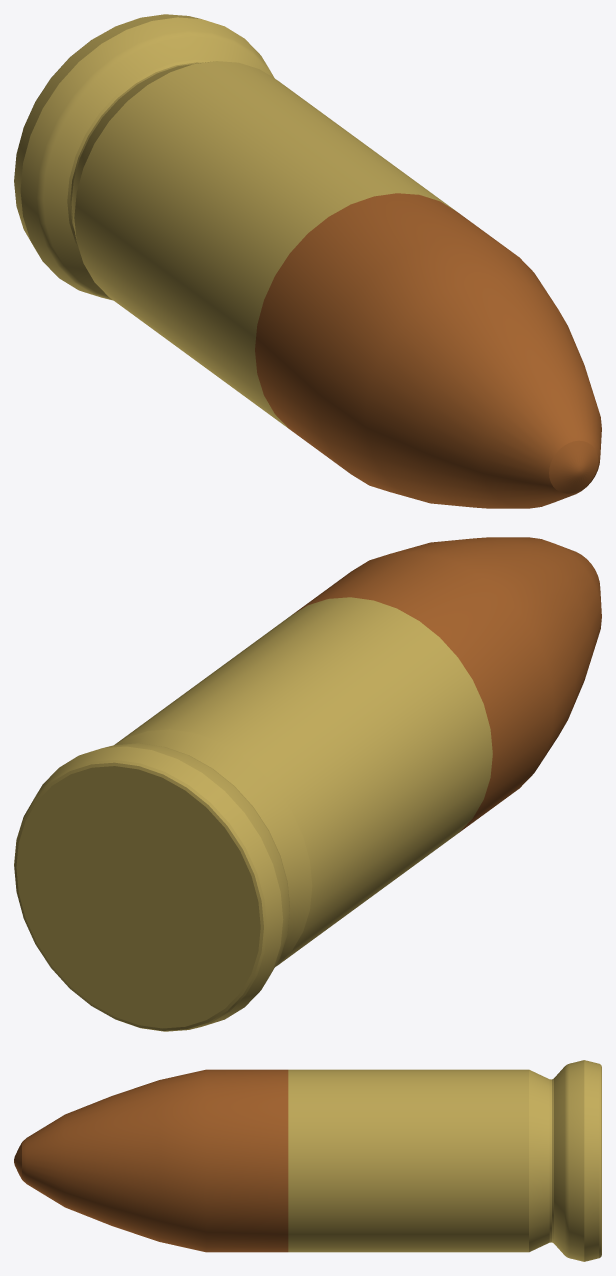
File: M_PistolAmmo.fbx
The picture shows the model from 3 angles, top to bottom: view 1: azimuth 30°, elevation 25°; view 2: azimuth 150°, elevation 25°; view 3: azimuth 270°, elevation 25°; orthographic projection. The views are drawn at different scales.
Parts seen in each view (by area): view 1: pistolammo; view 2: pistolammo; view 3: pistolammo.
Part boxes in pixels (x1,y1,x2,y2): pistolammo: (14, 14, 601, 508); pistolammo: (14, 537, 601, 1031); pistolammo: (14, 1060, 601, 1261).
Bounding box in the file's own units: 0.0712 × 0.0712 × 0.2071.
